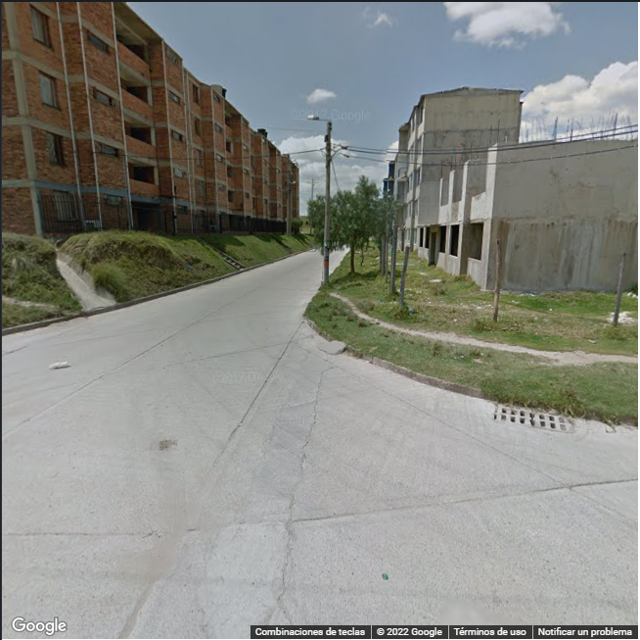D00: (282, 352, 327, 600), (255, 403, 280, 481)
